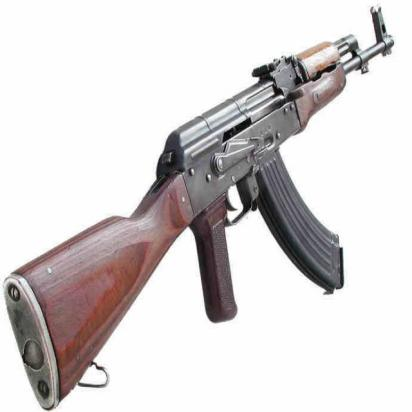Gun: (6, 3, 399, 412)
